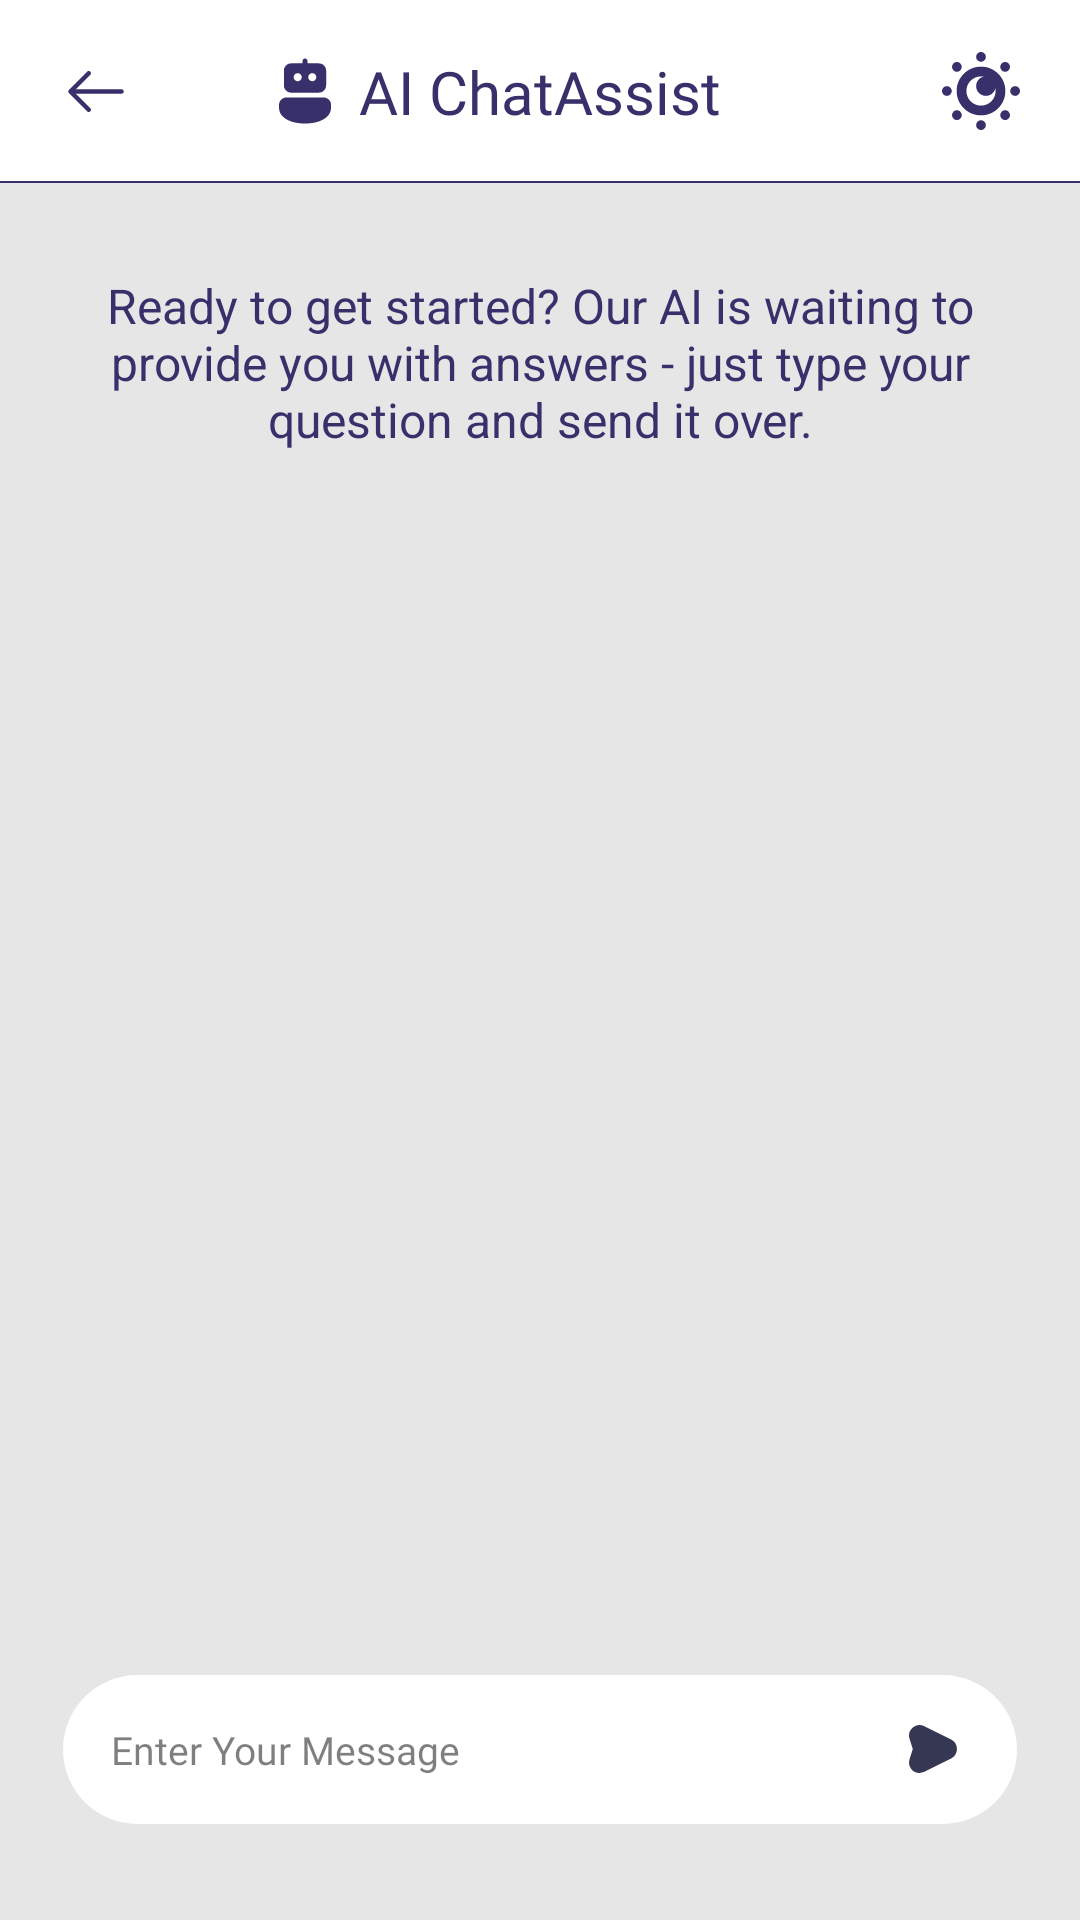

Named icons in this screenshot (1080×1920) and their centers, (x=x, y=y):
send: (x=933, y=1749)
